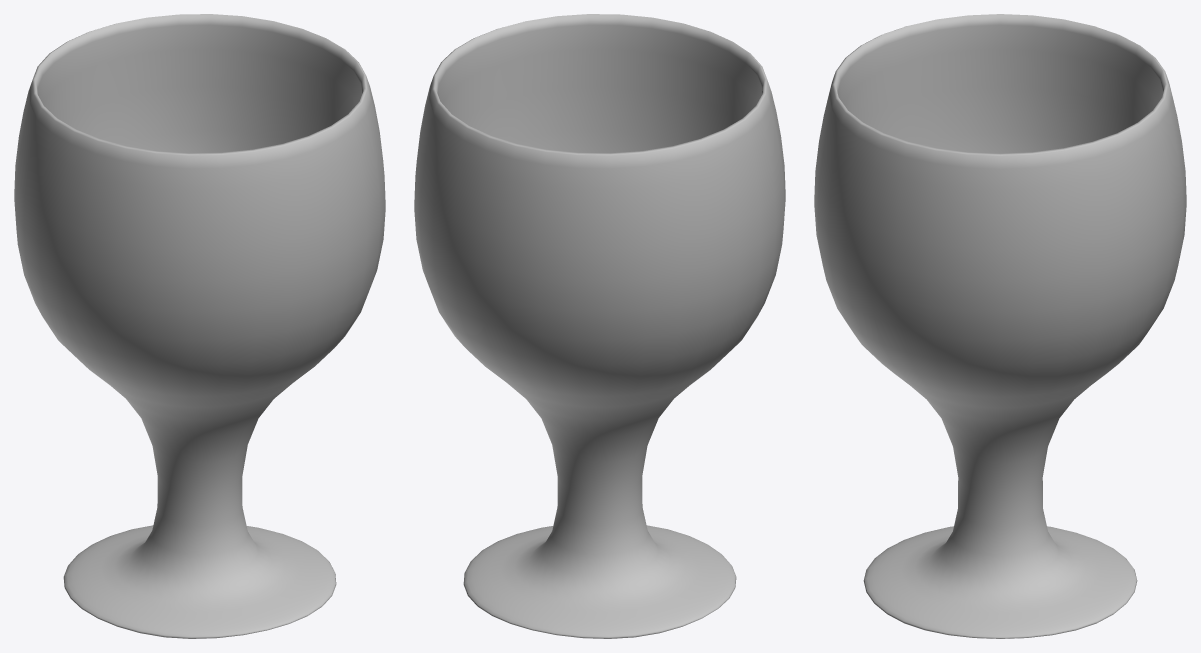
File: Goblet_Silver.fbx
3 views of the same model, side by side, from view 1: azimuth 30°, elevation 25°; view 2: azimuth 150°, elevation 25°; view 3: azimuth 270°, elevation 25° (orthographic).
Visible parts, largest first — view 1: Cube; view 2: Cube; view 3: Cube.
Boxes of the visible parts, x1,y1,x2,y2 form: Cube: (14,14,385,638); Cube: (414,14,785,638); Cube: (814,14,1186,638).
Size of the model in its own units: 12.6 by 18.68 by 12.6.
1 material, 1 textured.
